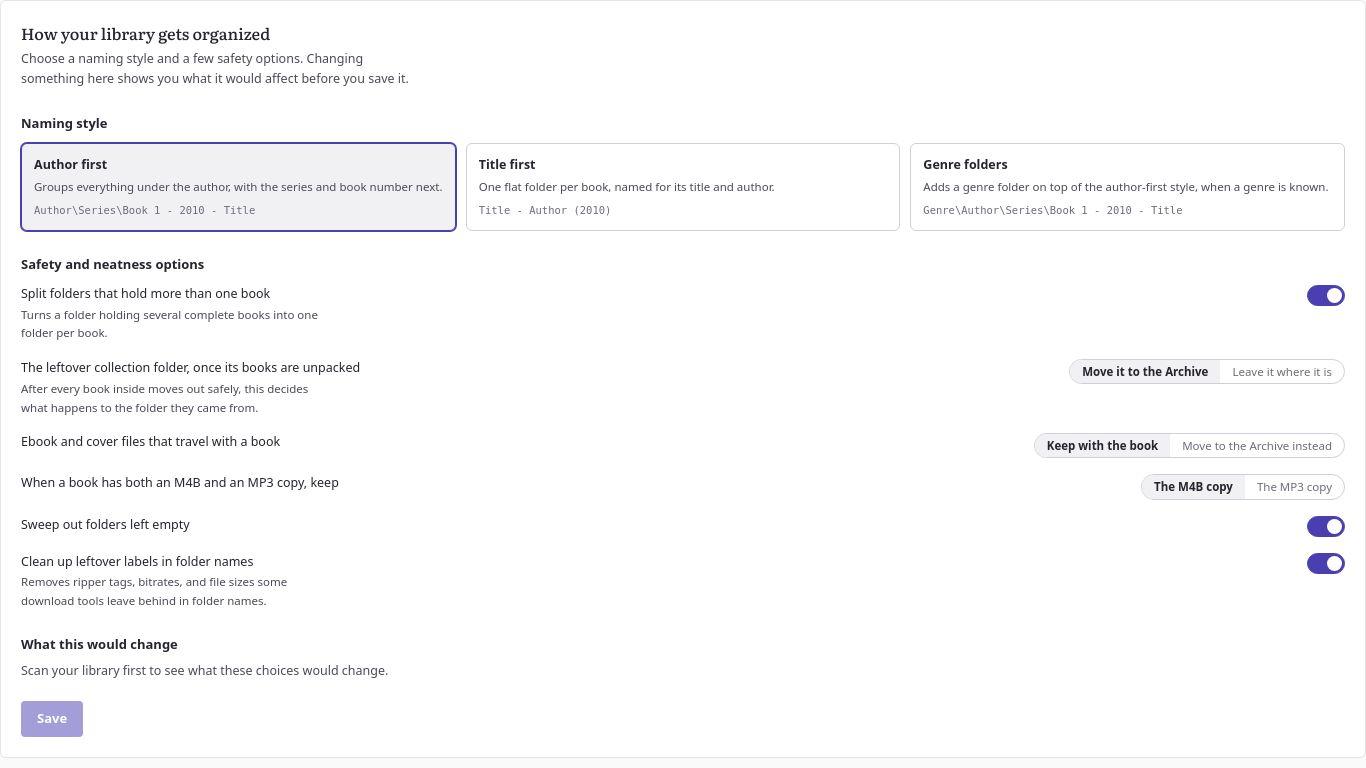
Test: RulesetEditor › disables Save until the draft is dirty, then saves and shows confirmation
Expected: the radio button labelled "Author first" is shown, [21,143,456,231]
Expected: the button "Save" is disabled, [21,701,83,737]
Click the radio button labelled "Title first": (683, 187) [466,143,900,231]
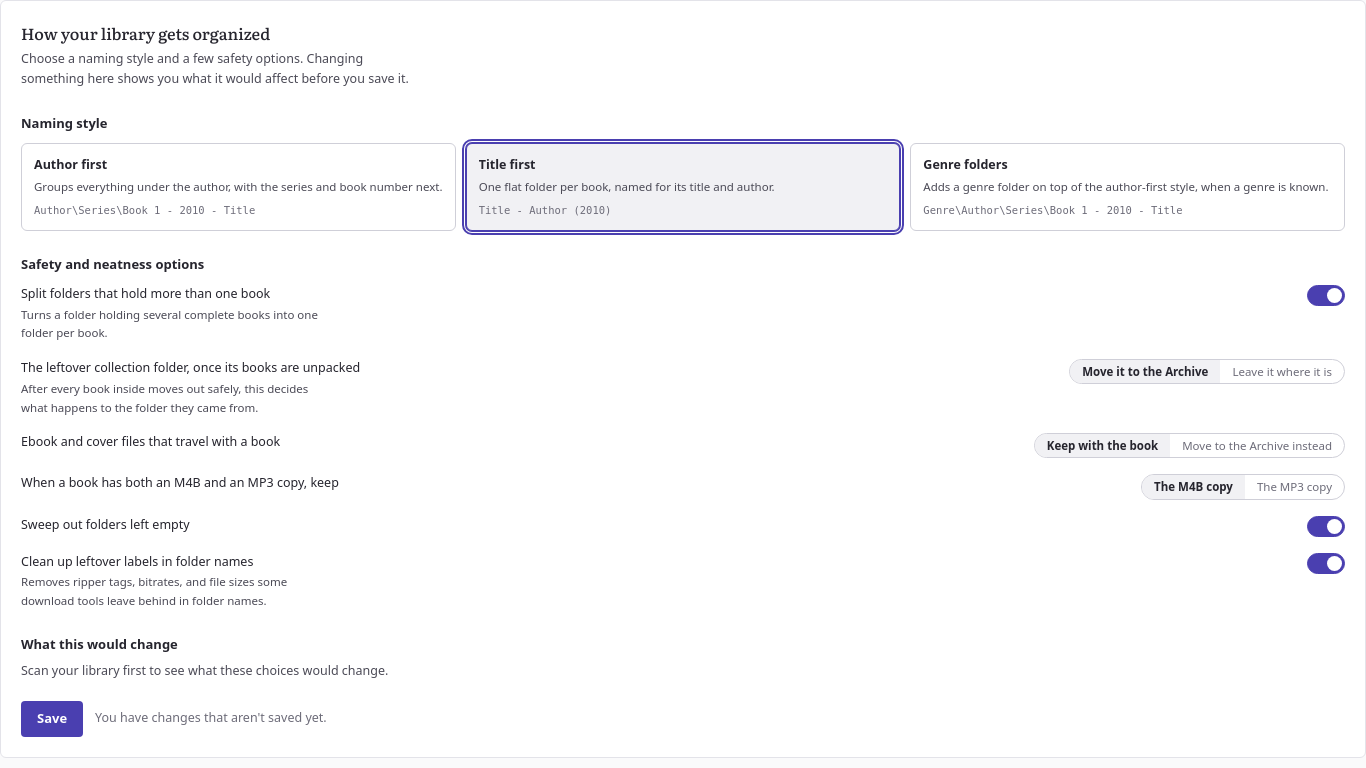
Expected: the button "Save" is enabled
Click the button "Save": (52, 719) [21,701,83,737]
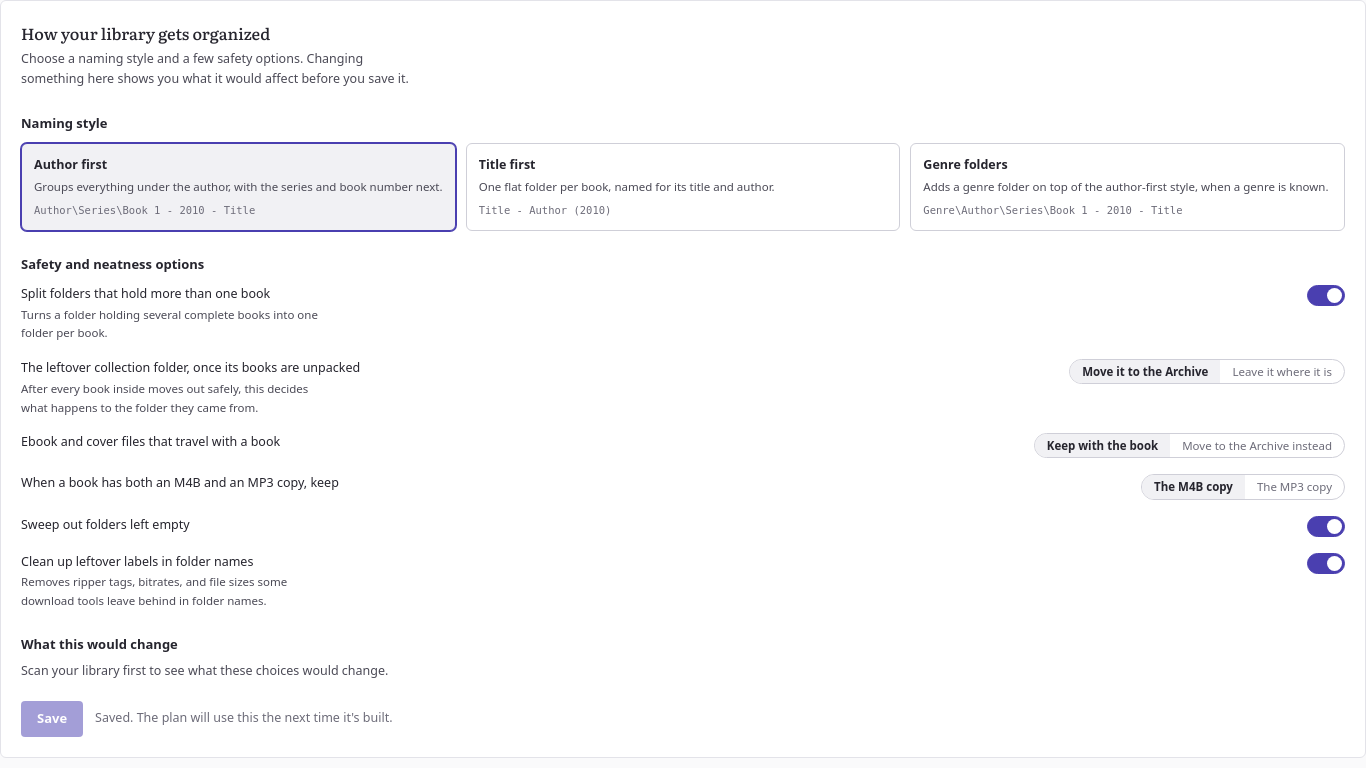
Expected: the text "Saved. The plan will use this the next time it's built." is shown, [95,709,393,728]
Expected: the button "Save" is disabled, [21,701,83,737]
